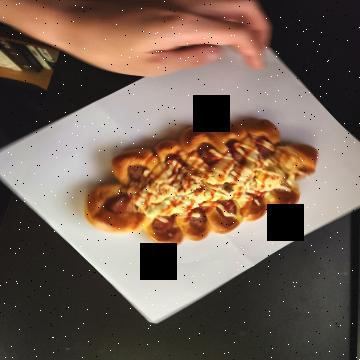pizza_bread: (122, 38, 250, 283)
